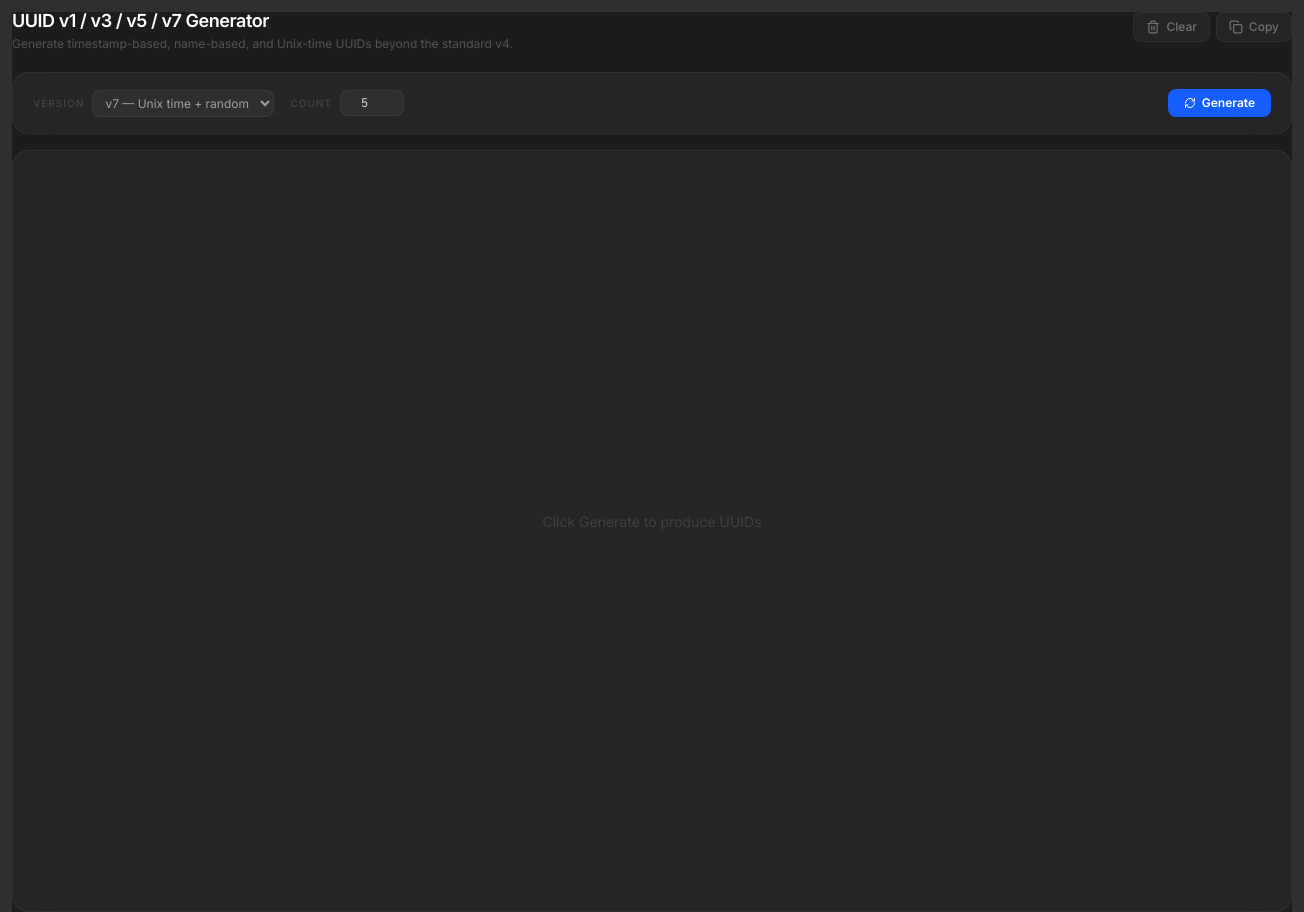
Test: UuidVersionsGenerator › clears the UUID list
This screenshot has width=1304, height=912.
Click the button "Generate".
click(1219, 103)  # box [1168,89,1271,117]
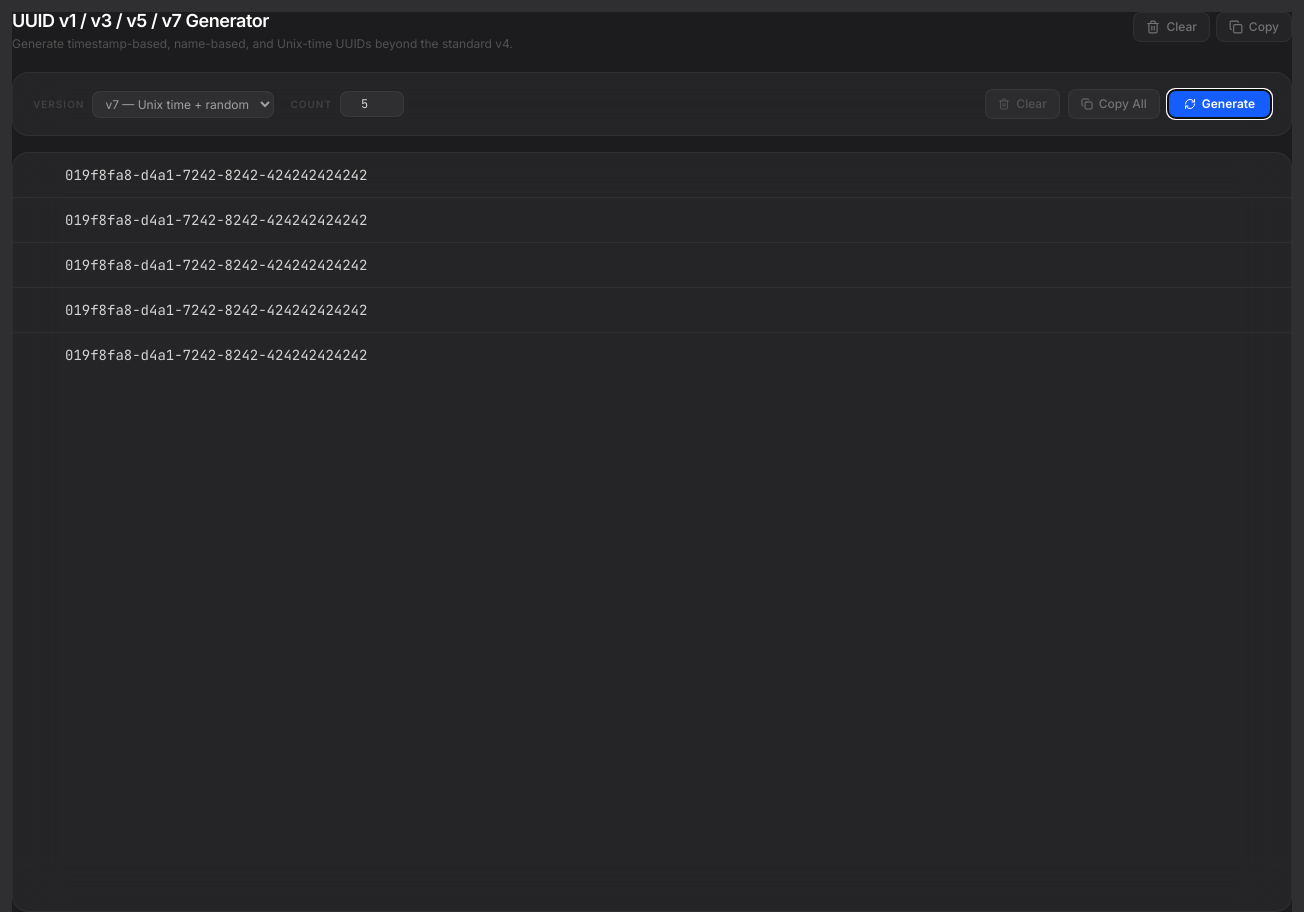
Click the button titled "Clear all" in the row of "UUID v1 / v3 / v5 / v7 Generator".
click(1172, 27)  # box [1133,12,1210,42]
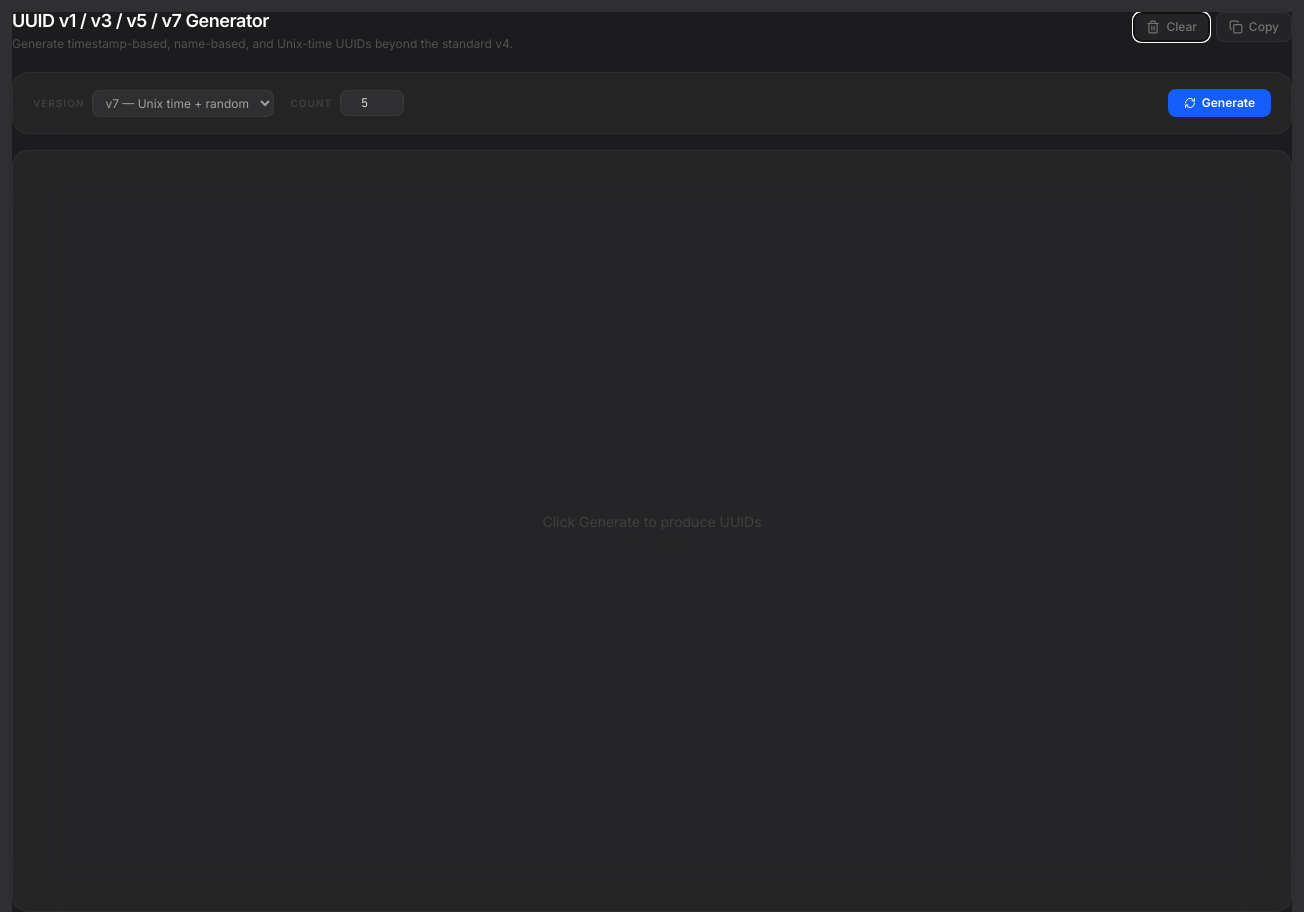
Now the text "Click Generate to produce UUIDs" is shown, box [542,512,762,532]
